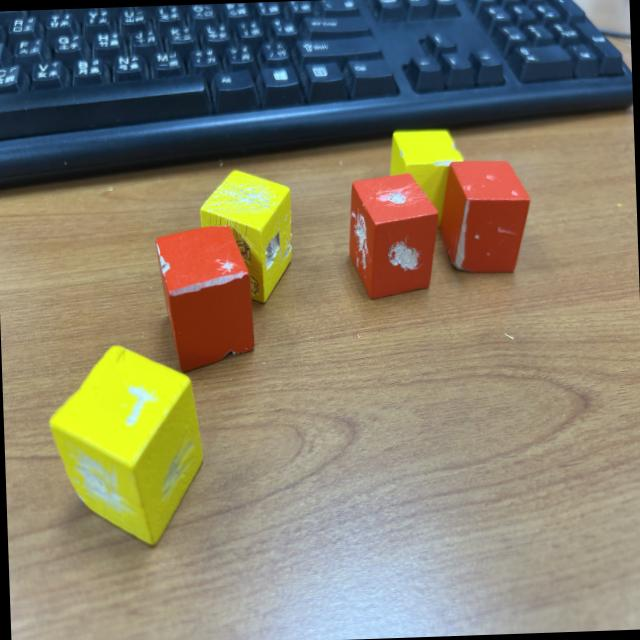broken: (44, 341, 208, 552), (154, 222, 255, 372), (197, 166, 296, 306), (347, 170, 444, 303), (437, 158, 532, 274), (387, 125, 467, 229)
